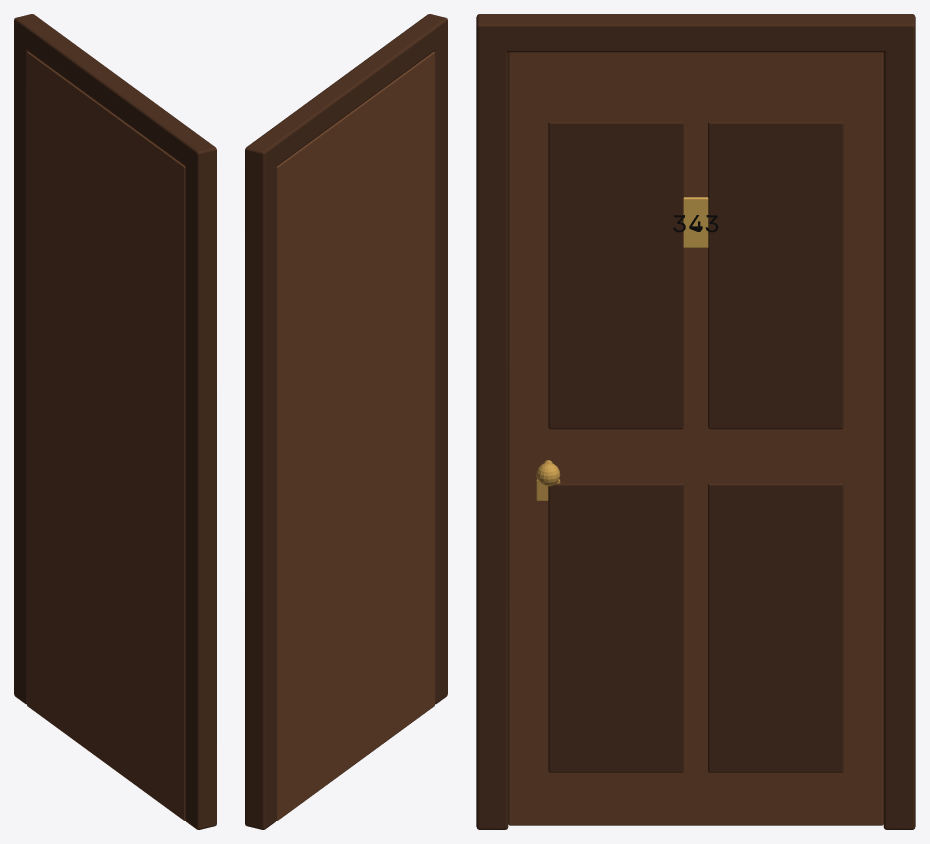
The model's file is hotel_door_f.glb.
3 views of the same model, side by side, from view 1: azimuth 30°, elevation 25°; view 2: azimuth 150°, elevation 25°; view 3: azimuth 270°, elevation 25° (orthographic). The views are drawn at different scales.
Visible parts, largest first — view 1: blatt, zarge.001, zarge, zarge.002; view 2: blatt, zarge, zarge.001, zarge.002; view 3: blatt, kassette.002, kassette.003, kassette.001, kassette, zarge, zarge.001, zarge.002, plakette.
Part boxes in pixels (box(x1,y1,x2,y2)): blatt: box(27, 51, 185, 820); zarge.001: box(185, 139, 216, 829); zarge: box(14, 14, 43, 704); zarge.002: box(14, 15, 216, 173); blatt: box(276, 51, 434, 820); zarge: box(245, 139, 276, 829); zarge.001: box(419, 14, 447, 704); zarge.002: box(245, 14, 447, 173); blatt: box(508, 52, 883, 825); kassette.002: box(548, 121, 683, 429); kassette.003: box(708, 121, 843, 429); kassette.001: box(708, 483, 843, 772); kassette: box(548, 483, 683, 772); zarge: box(883, 14, 915, 829); zarge.001: box(476, 14, 508, 829); zarge.002: box(476, 14, 915, 52); plakette: box(683, 197, 708, 247).
Bounding box in the file's own units: 0.13 × 2.23 × 1.1.
